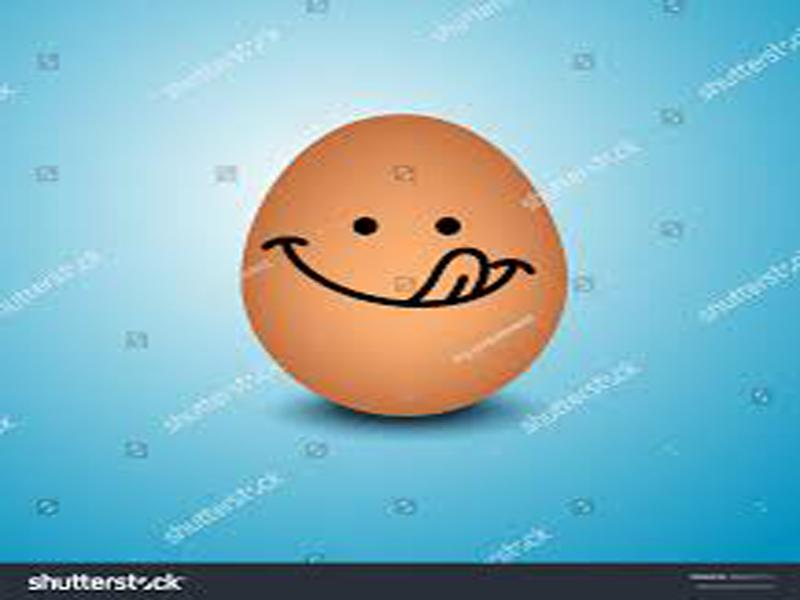Eggs: (240, 114, 568, 416)
